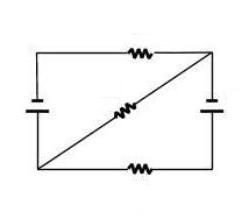resistor: (117, 155, 161, 185), (106, 94, 140, 127), (115, 42, 163, 63)
